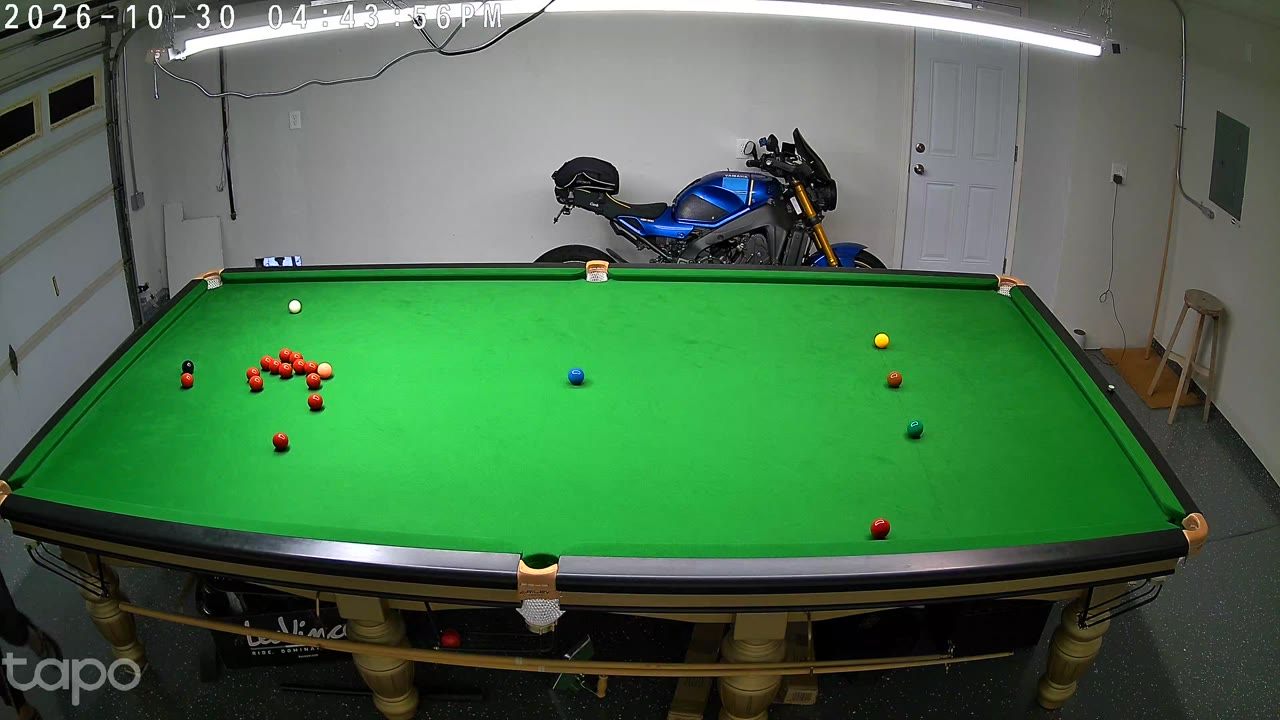blue: (568, 366, 585, 388)
brown: (887, 370, 901, 391)
green: (907, 417, 923, 441)
pink: (318, 362, 330, 381)
red: (869, 515, 891, 547), (273, 431, 289, 453), (308, 392, 322, 413), (181, 359, 194, 381), (246, 366, 259, 386), (181, 371, 194, 390), (279, 347, 290, 368), (280, 361, 292, 380), (251, 375, 263, 394), (270, 357, 281, 375), (261, 355, 272, 373), (307, 371, 318, 389), (305, 360, 316, 378), (294, 358, 304, 376), (290, 350, 299, 370)
white: (289, 298, 301, 316)
yellow: (875, 332, 889, 351)
